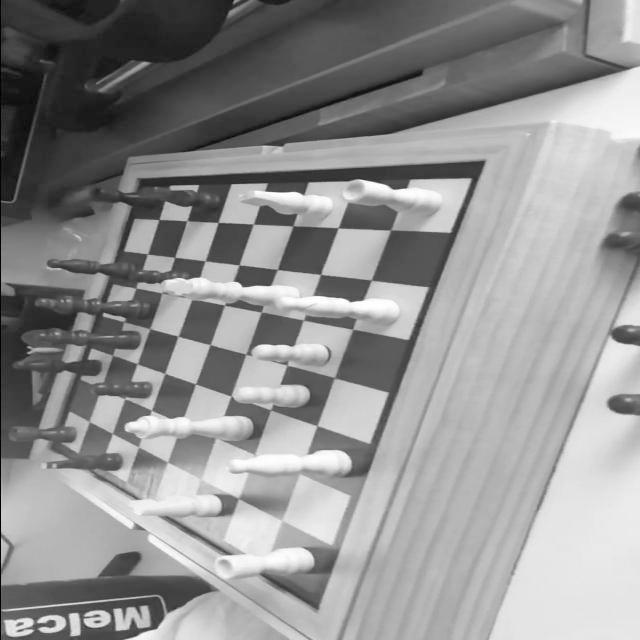chess-table-corners: (466, 154, 496, 178), (298, 599, 330, 617), (34, 441, 57, 456), (124, 174, 150, 186)
